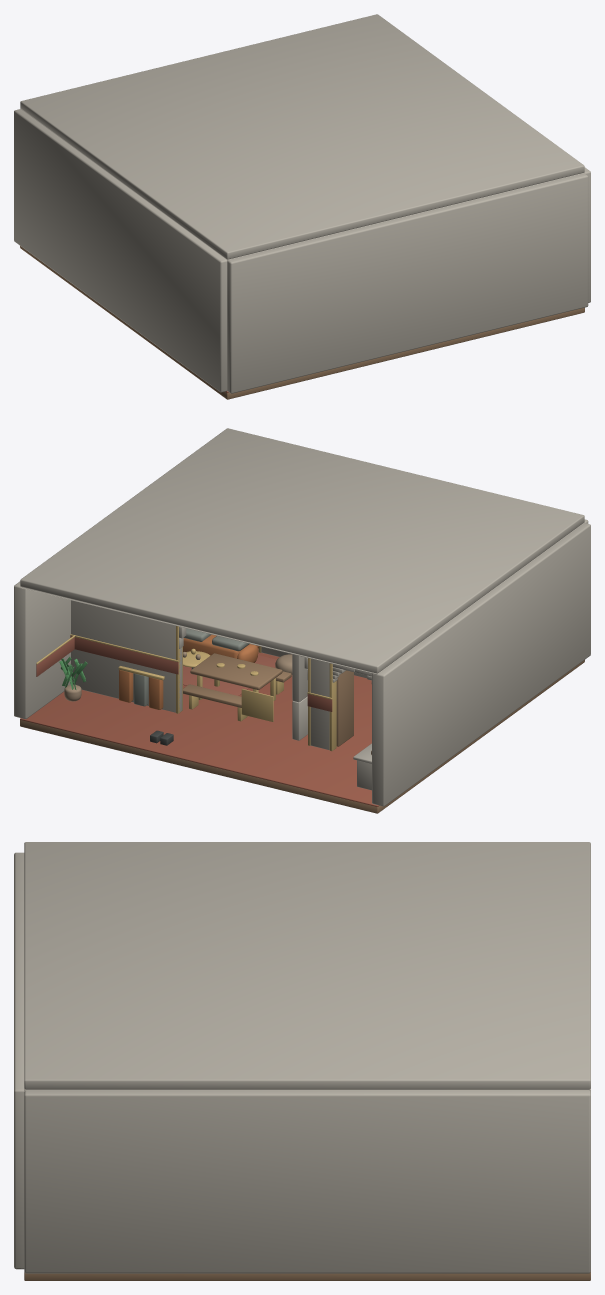
Rendered from hab_apartment_v4.glb.
3 renders of one model, top to bottom at view 1: azimuth 30°, elevation 25°; view 2: azimuth 150°, elevation 25°; view 3: azimuth 270°, elevation 25°, orthographic. The views are drawn at different scales.
Visible parts, largest first — view 1: HabApartment; view 2: HabApartment; view 3: HabApartment.
Boxes of the visible parts, x1=… form: HabApartment: x1=14, y1=14, x2=590, y2=399; HabApartment: x1=14, y1=428, x2=590, y2=813; HabApartment: x1=14, y1=842, x2=590, y2=1280.
Bounding box in the file's own units: 10.32 × 3.92 × 10.18.
